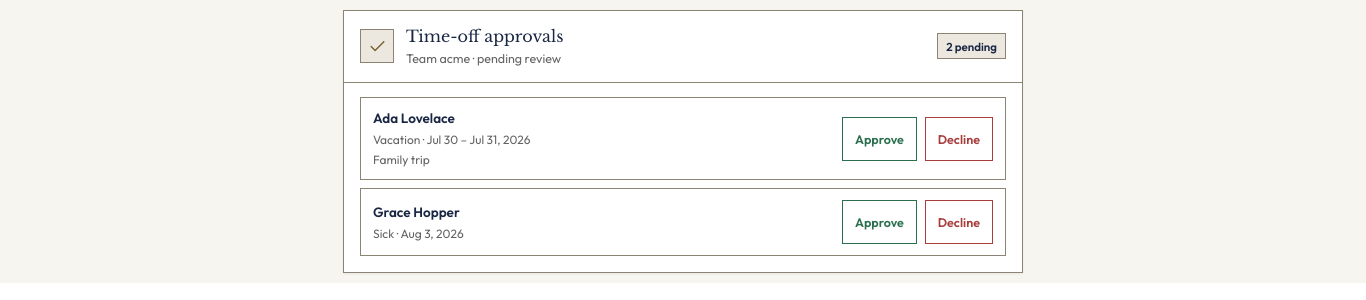
keeps simultaneous review actions pending on their own rows
Click the button "Approve" in the row of "Ada Lovelace".
click(879, 138)  # box [842, 116, 917, 160]
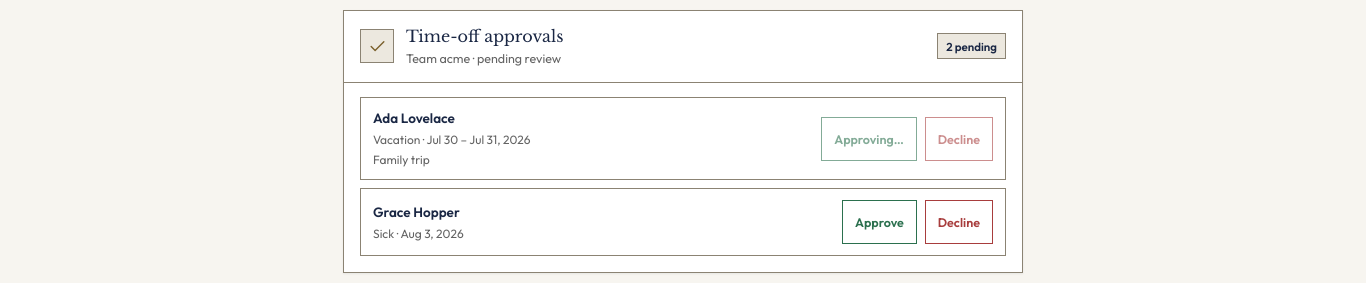
Click the button "Decline" in the row of "Grace Hopper".
click(959, 222)  # box [925, 200, 993, 244]
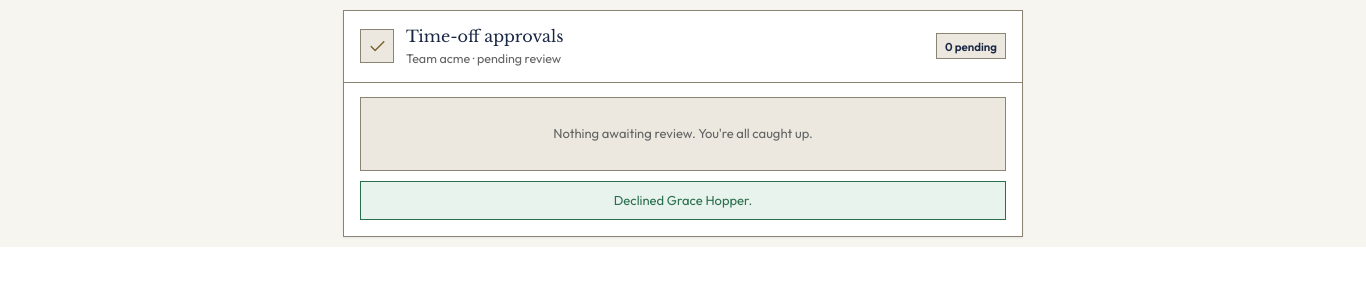
Check: the list item "Ada Lovelace Vacation · Jul 30 – Jul 31, 2026 Family trip Approving… Decline" is gone
